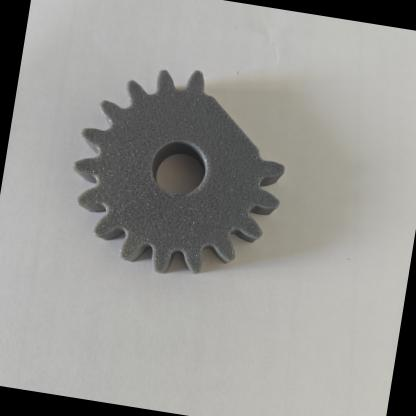defect: (151, 58, 324, 210)
gear: (32, 39, 360, 328)
